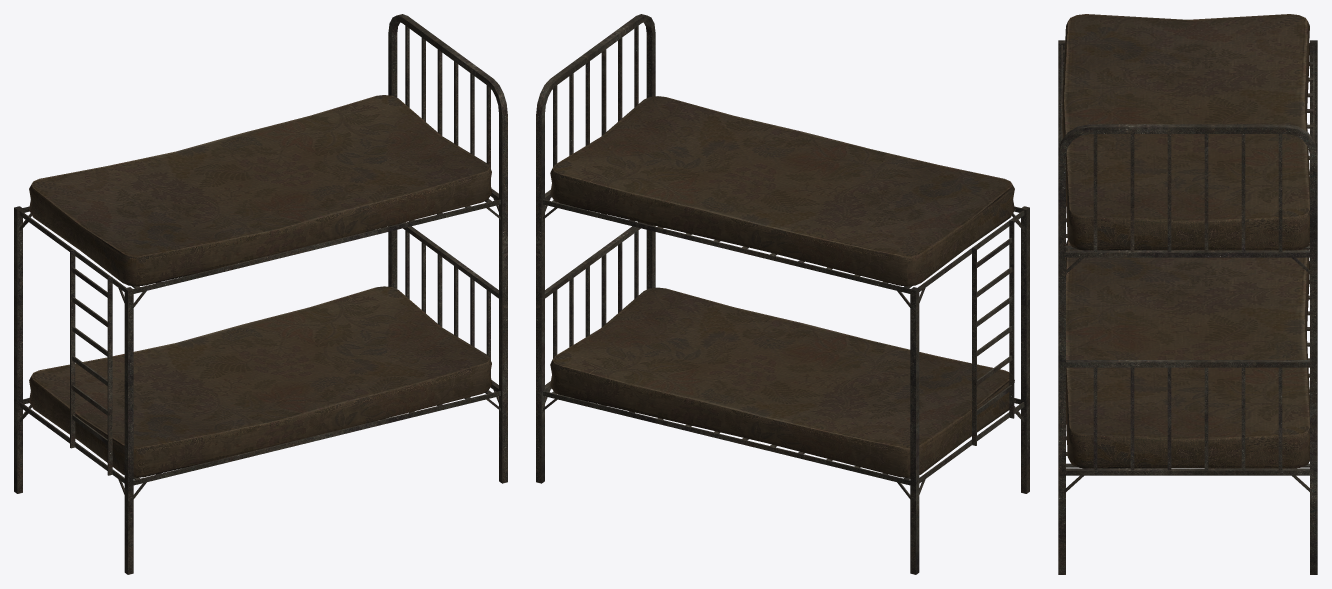
Rendered from bed_2.glb.
3 renders of one model, left to right at view 1: azimuth 30°, elevation 25°; view 2: azimuth 150°, elevation 25°; view 3: azimuth 270°, elevation 25°, orthographic. The views are drawn at different scales.
Visible parts, largest first — view 1: bed_2; view 2: bed_2; view 3: bed_2.
Part boxes in pixels (bbox=[...]): bed_2: bbox=[14, 14, 507, 574]; bed_2: bbox=[536, 14, 1029, 574]; bed_2: bbox=[1058, 14, 1317, 574].
Size of the model in its own units: 2.72 by 2.67 by 1.4.
2 materials, 2 textured.
